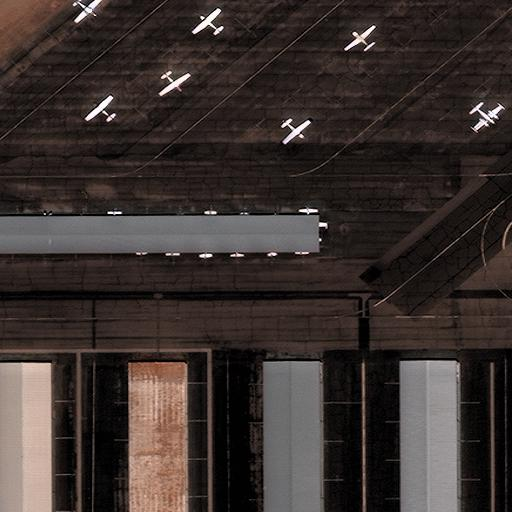Small Civil Transport: (83, 94, 112, 120), (190, 7, 220, 32), (160, 73, 191, 96), (473, 106, 502, 130), (73, 0, 102, 23), (343, 25, 372, 48), (284, 121, 311, 144)
